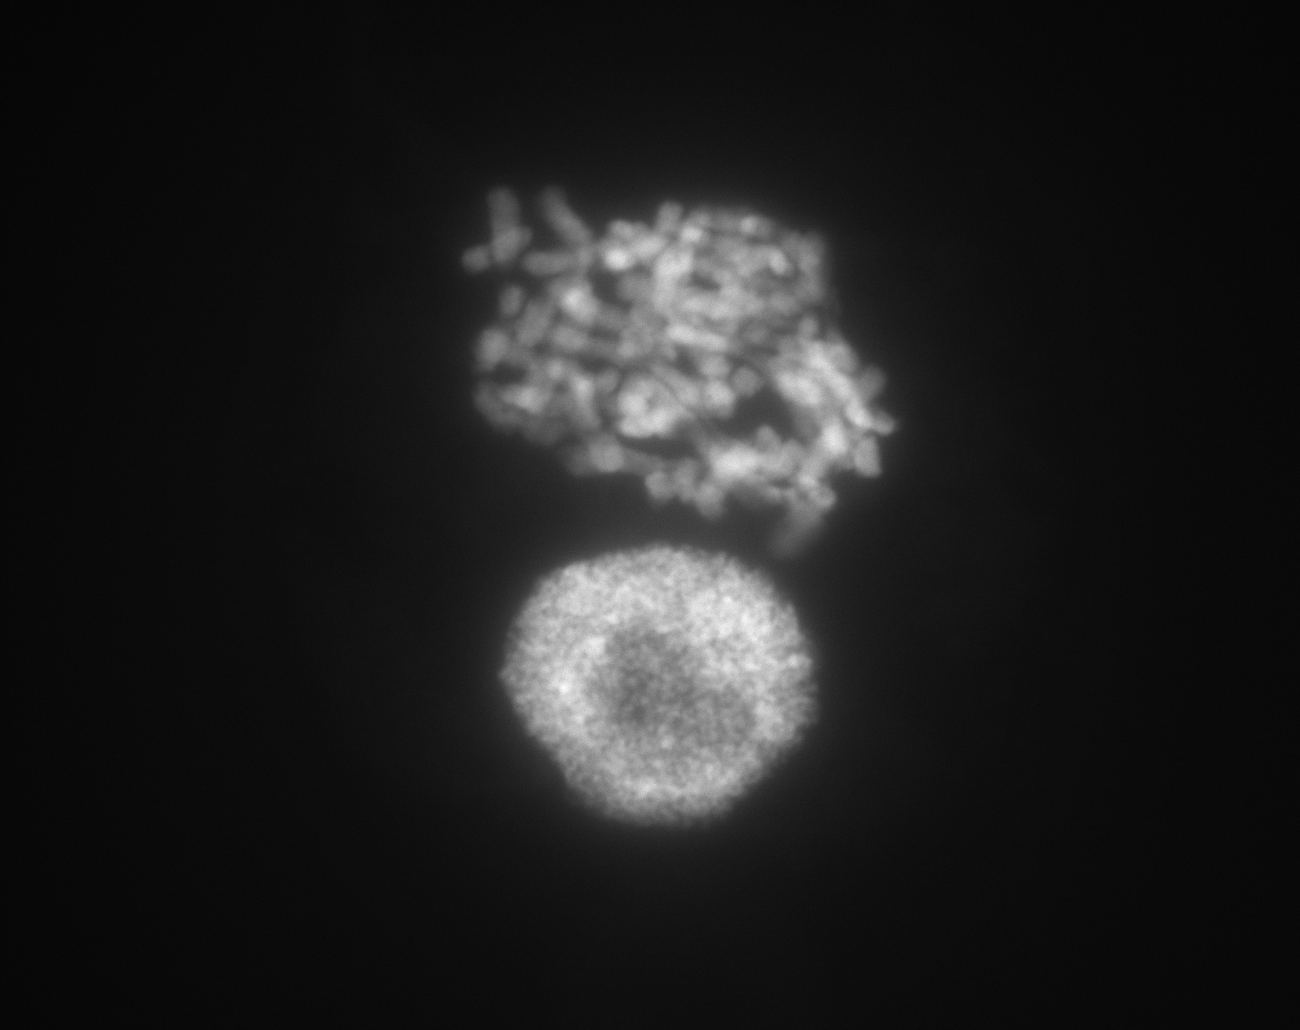Chromosomes: (421, 152, 922, 542)
Others: (462, 518, 860, 882)
